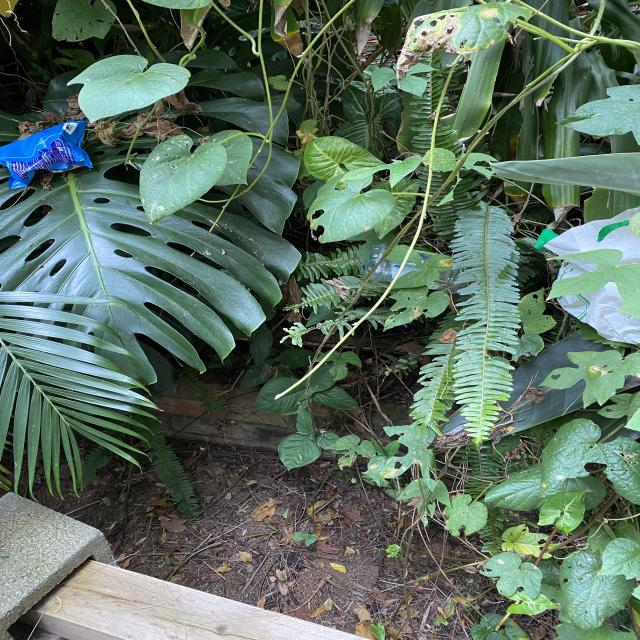bag: (0, 121, 94, 189)
